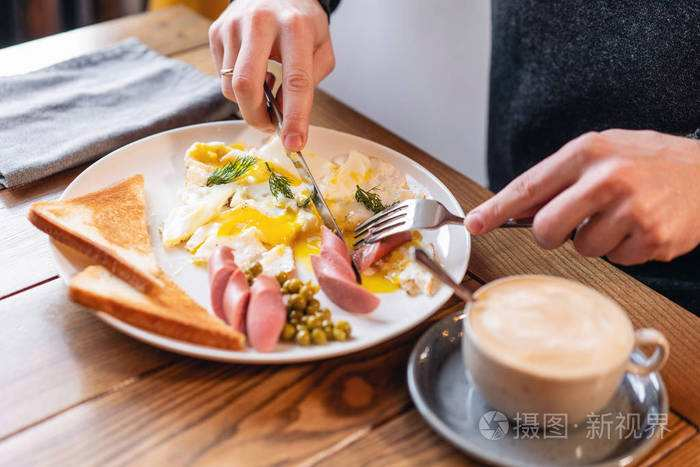no-phone: (384, 115, 695, 266), (206, 1, 339, 187)
